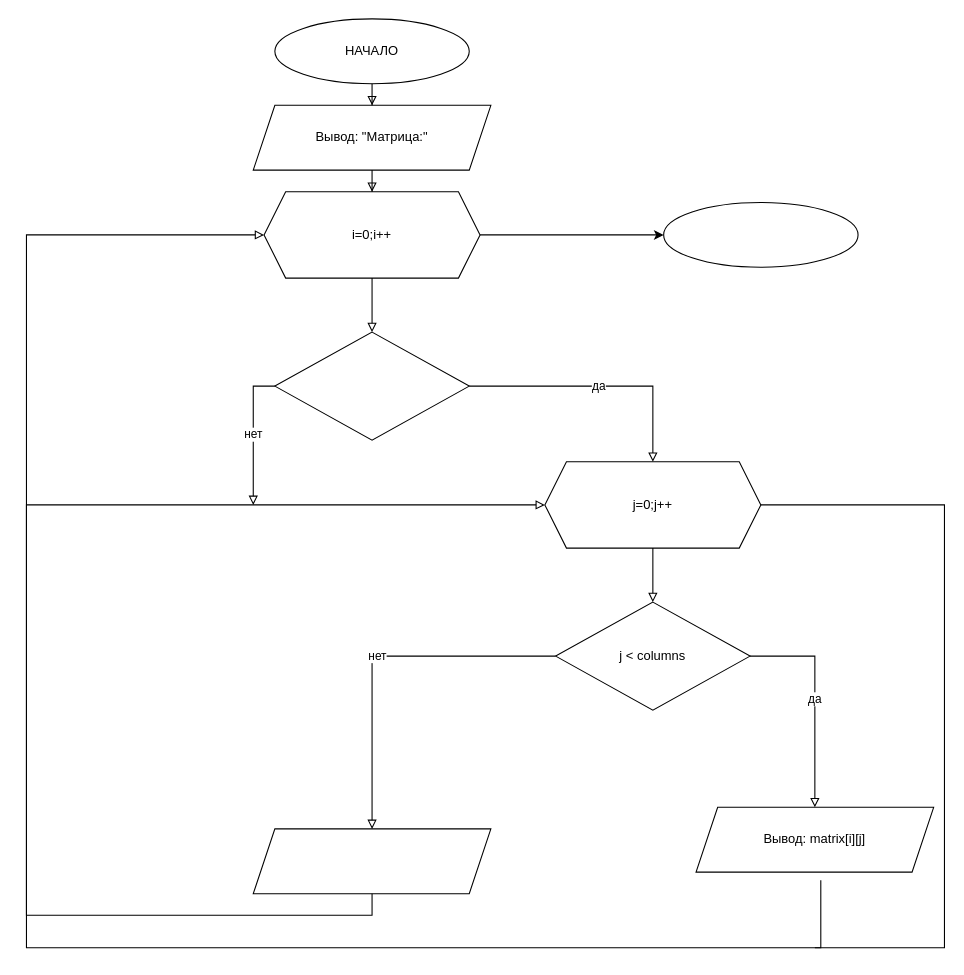
Image size: 964x975. Some labels were removed from this diagram. Each missing label, with the centre of its shape:
i < rows: pixel 371 385
Вывод: "\n": pixel 371 861
КОНЕЦ: pixel 760 234
